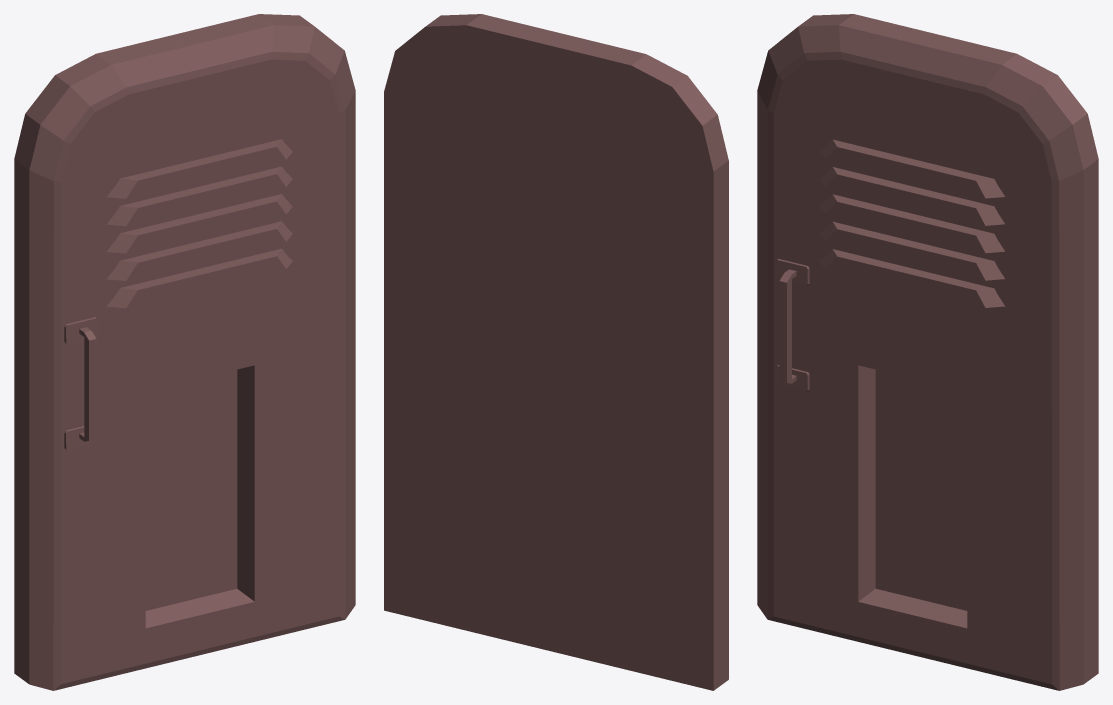
3 views of the same model, side by side, from view 1: azimuth 30°, elevation 25°; view 2: azimuth 150°, elevation 25°; view 3: azimuth 330°, elevation 25° (orthographic).
Parts seen in each view (by area): view 1: SM_H4_D1; view 2: SM_H4_D1; view 3: SM_H4_D1.
Part boxes in pixels (x1,y1,x2,y2): SM_H4_D1: (14,14,355,690); SM_H4_D1: (384,14,728,690); SM_H4_D1: (757,14,1098,690).
Bounding box in the file's own units: 175 × 31.53 × 310.
1 material, 1 textured.
